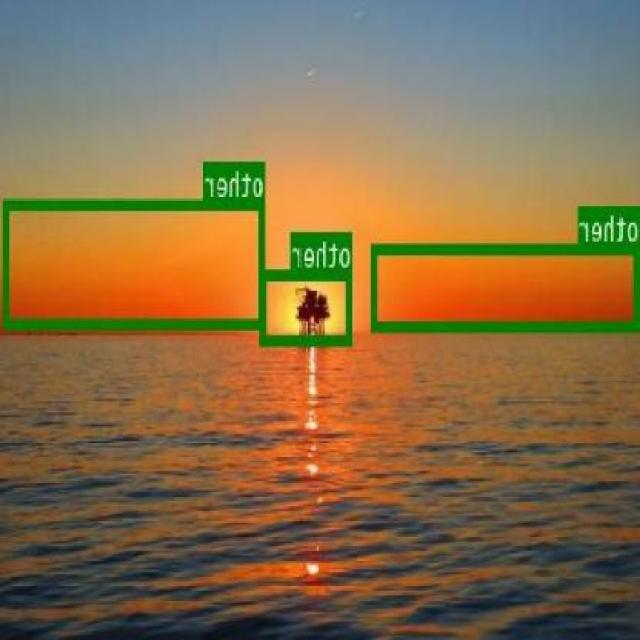other: (6, 198, 266, 328), (374, 242, 640, 331), (262, 266, 353, 342)
